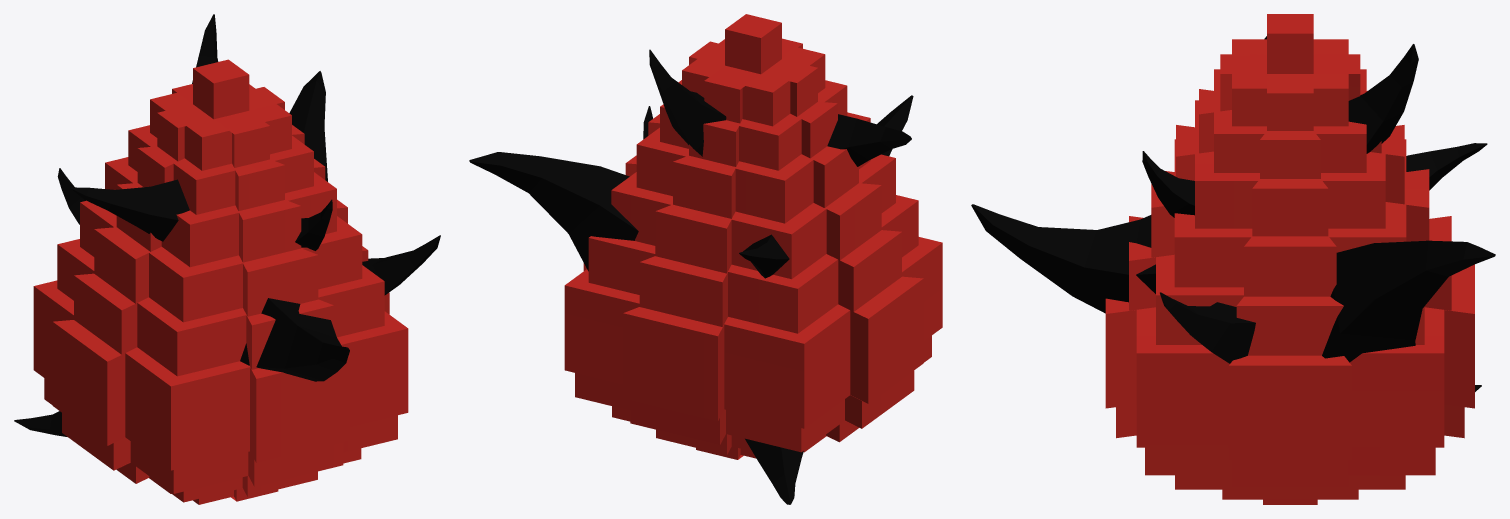
The model's file is spiky egg.fbx.
3 renders of one model, left to right at view 1: azimuth 30°, elevation 25°; view 2: azimuth 150°, elevation 25°; view 3: azimuth 270°, elevation 25°, orthographic. The views are drawn at different scales.
Parts seen in each view (by area): view 1: Plane.003_1; view 2: Plane.003_1; view 3: Plane.003_1.
Part boxes in pixels (x1=…): Plane.003_1: x1=14, y1=14, x2=440, y2=504; Plane.003_1: x1=469, y1=14, x2=942, y2=504; Plane.003_1: x1=971, y1=14, x2=1495, y2=504.
Bounding box in the file's own units: 224 × 250 × 263.
